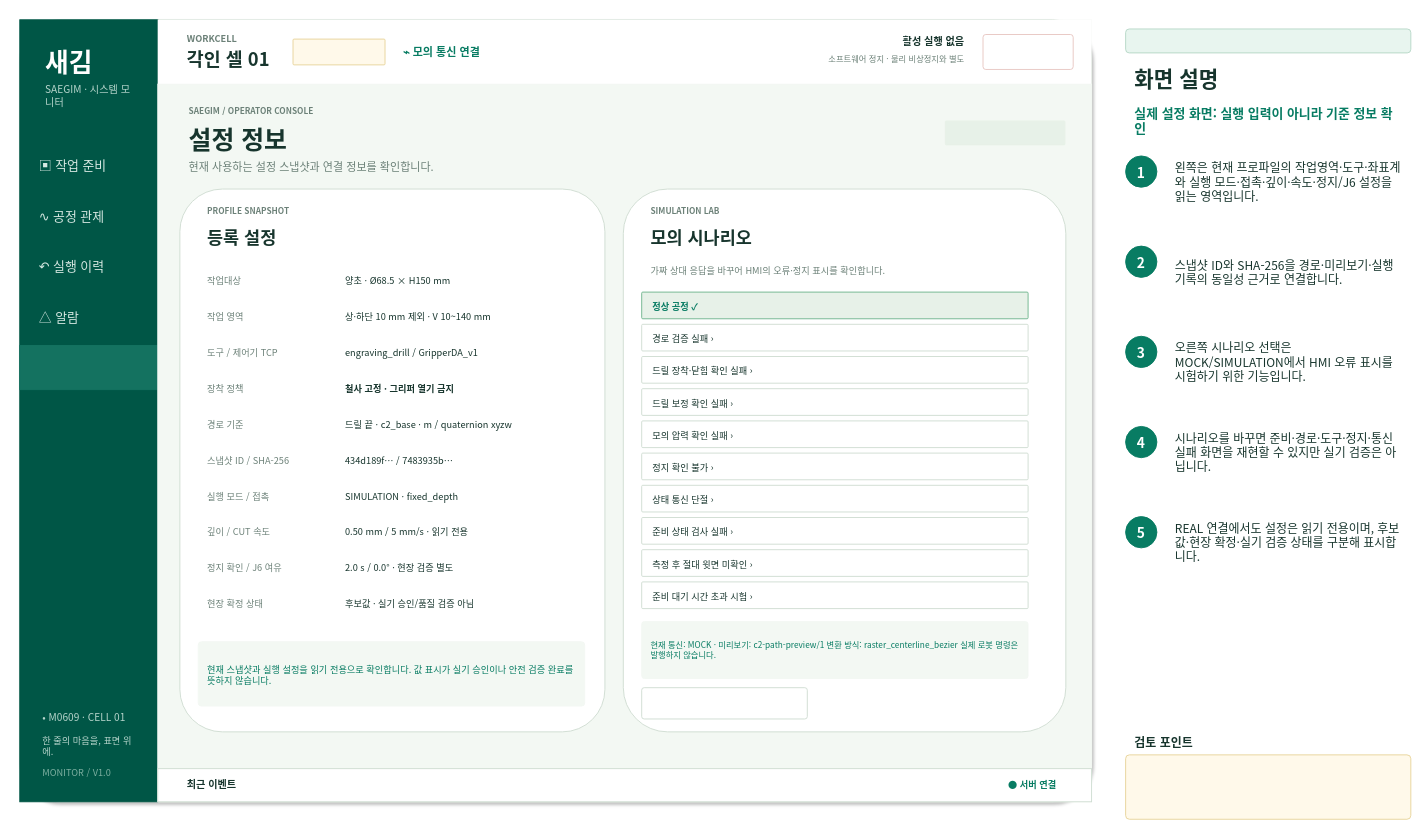
This 1427x835 diagram has some shape labels left out. Each missing label, with the centre of its shape:
"SIMULATION" goes at (x=338, y=51).
"SIMULATION · MOCK" goes at (x=1004, y=132).
"↶ 모의 상태 초기화" goes at (x=724, y=703).
"⌘ 설정 정보 ›" goes at (x=88, y=367).
"○ 정지 요청" goes at (x=1027, y=51).
"설정 출처·단위·해시 · 후보/승인/검증 구분 · REAL/SIM 모드 · robot_adapter 책임을 확인합니다." goes at (x=1268, y=786).
"최종 개정 · 2026-09-27 · PR #93" goes at (x=1268, y=40).
